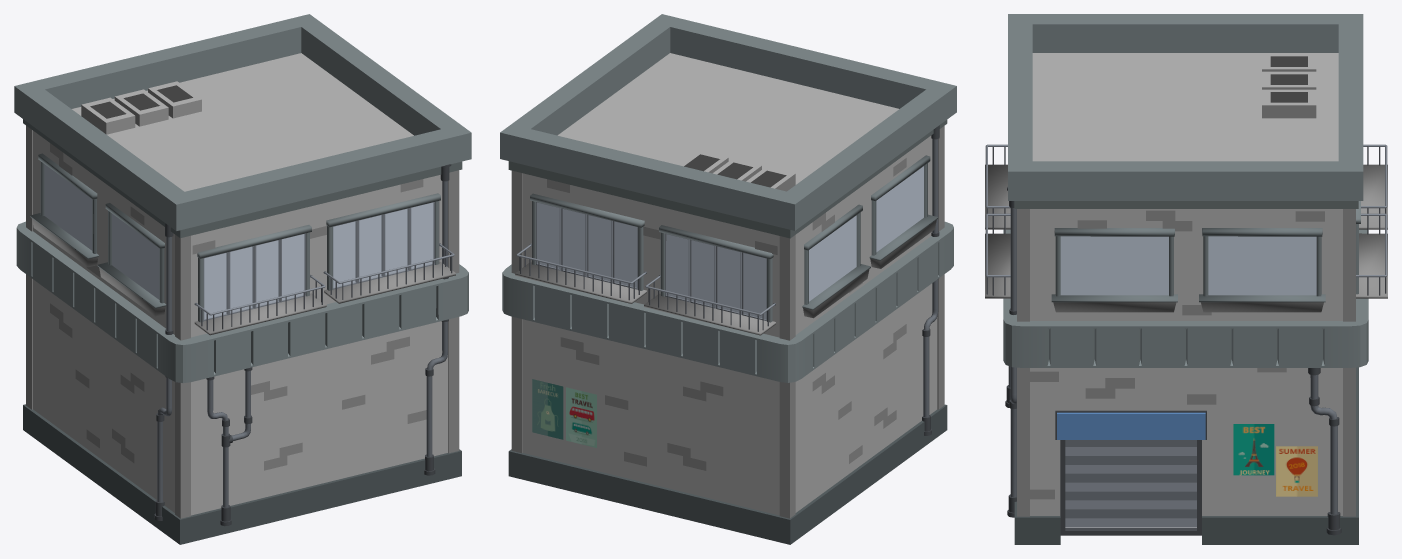
The model's file is building05.FBX.
3 renders of one model, left to right at view 1: azimuth 30°, elevation 25°; view 2: azimuth 150°, elevation 25°; view 3: azimuth 270°, elevation 25°, orthographic. The views are drawn at different scales.
Visible parts, largest first — view 1: building05; view 2: building05; view 3: building05.
Boxes of the visible parts, x1,y1,x2,y2 form: building05: (14, 14, 471, 544); building05: (500, 14, 956, 544); building05: (985, 14, 1387, 544).
Size of the model in its own units: 370 by 407 by 395.
